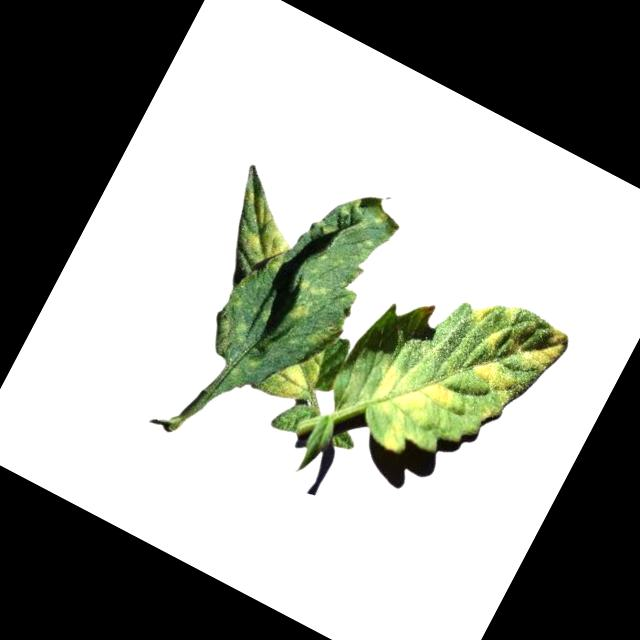Leaf_Mold: (348, 355, 461, 467), (234, 198, 301, 269), (506, 311, 571, 381), (464, 351, 531, 408), (262, 349, 321, 410), (283, 271, 333, 328), (468, 294, 496, 325)
